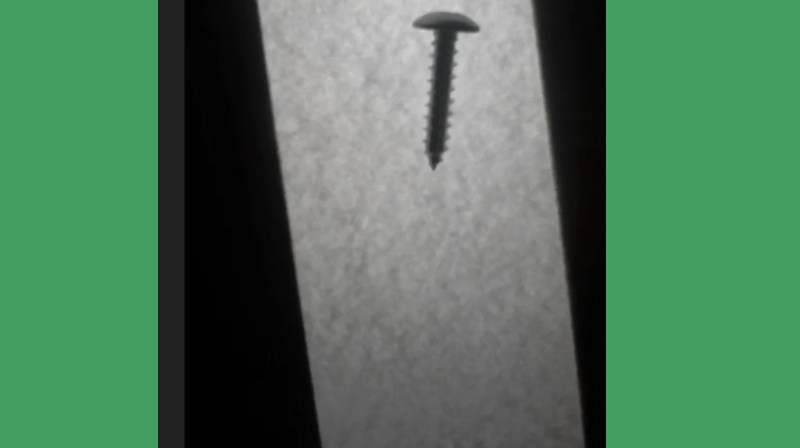S003: (411, 4, 481, 174)
